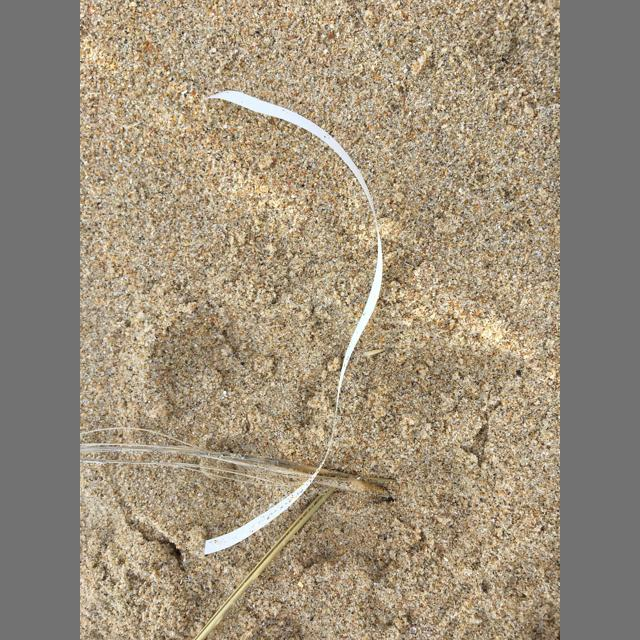litter: (202, 91, 382, 555)
